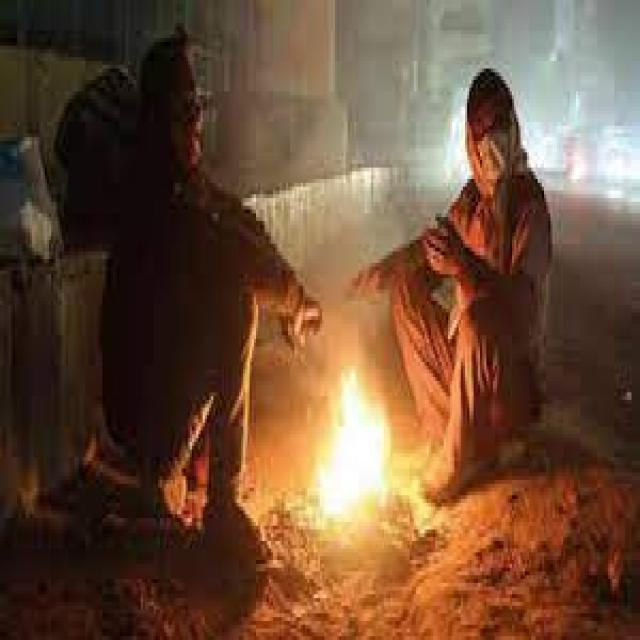fire: (319, 368, 392, 517)
